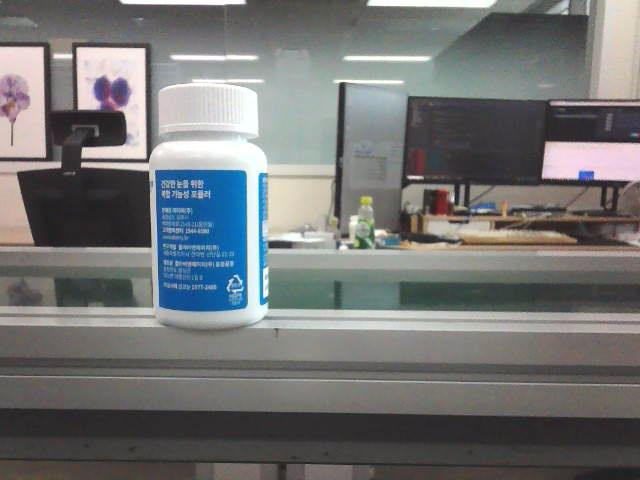labeled: (146, 79, 274, 334)
